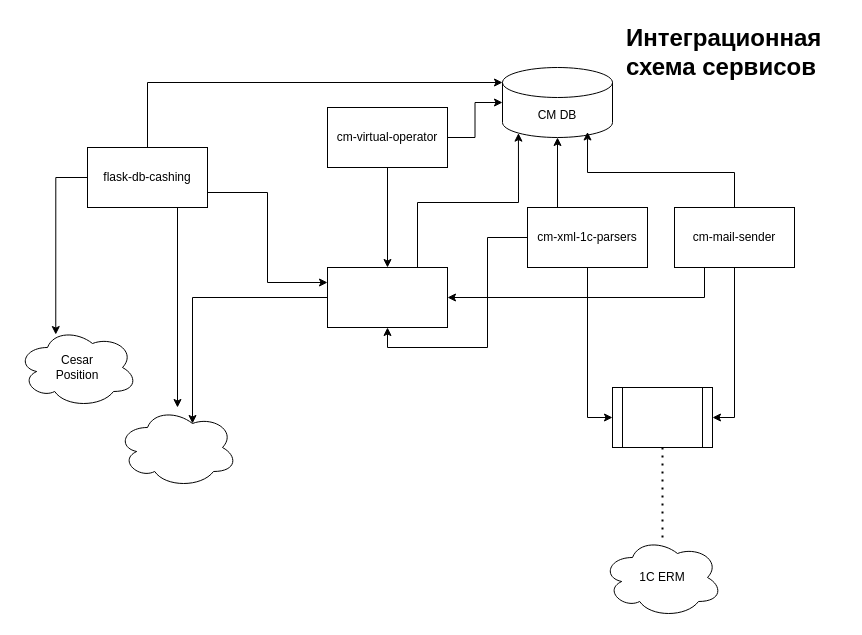
Image size: 862x635. Some labels were removed from this diagram. The centre of each missing label's shape, as x and y in pixels:
exchange server: the point at 662,417
flask-cm-spectr (центр мониторинга): the point at 387,297
Wialon: the point at 177,447
